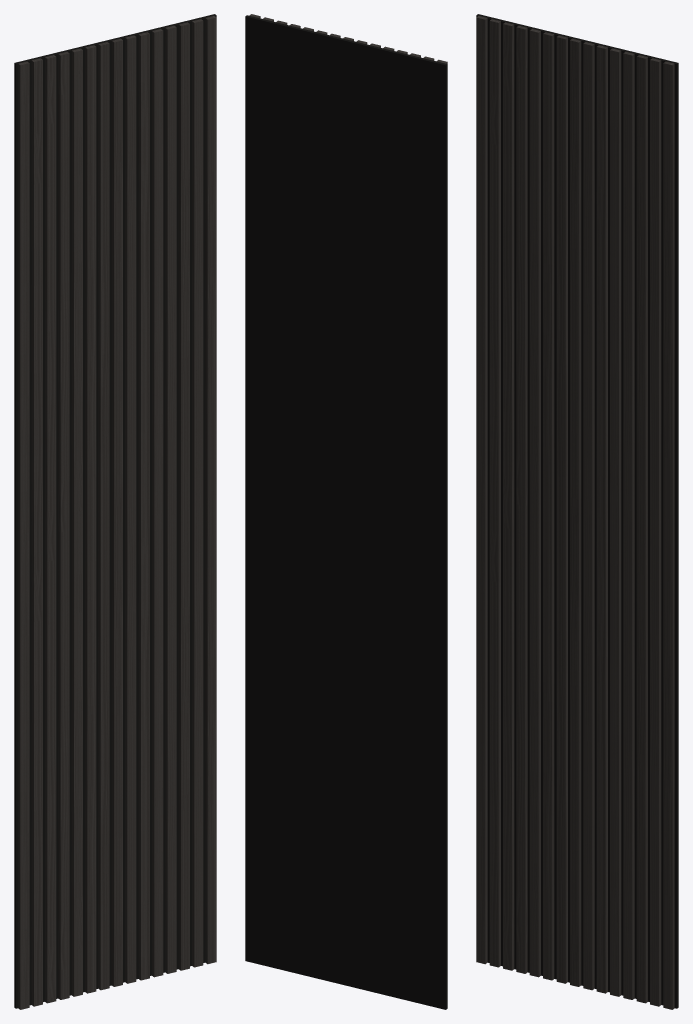
File: panel-classic-black-oak.glb
The picture shows the model from 3 angles, left to right: view 1: azimuth 30°, elevation 25°; view 2: azimuth 150°, elevation 25°; view 3: azimuth 330°, elevation 25°; orthographic projection.
Visible parts, largest first — view 1: Lamellen-Wandpaneel classic black-oak; view 2: Lamellen-Wandpaneel classic black-oak; view 3: Lamellen-Wandpaneel classic black-oak.
Boxes of the visible parts, <box> form: Lamellen-Wandpaneel classic black-oak: <box>14,14,216,1009</box>; Lamellen-Wandpaneel classic black-oak: <box>245,14,447,1009</box>; Lamellen-Wandpaneel classic black-oak: <box>476,14,678,1009</box>.
Size of the model in its own units: 0.6 by 2.7 by 0.021.
2 materials, 1 textured.
